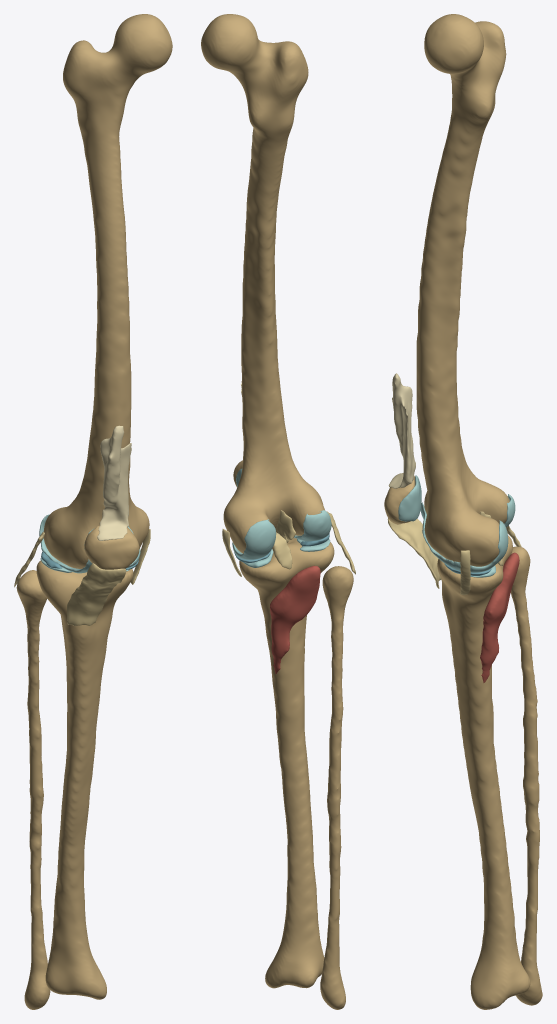
Rendered from knee.glb.
The picture shows the model from 3 angles, left to right: view 1: azimuth 30°, elevation 25°; view 2: azimuth 210°, elevation 25°; view 3: azimuth 270°, elevation 25°; orthographic projection. The views are drawn at different scales.
Visible parts, largest first — view 1: femur, tibia, fibula, quadriceps-tendon, patellar-ligament, patella, femoral-cartilage; view 2: femur, tibia, fibula, popliteus, femoral-cartilage, pcl, acl, tibial-cartilage; view 3: femur, tibia, fibula, popliteus, quadriceps-tendon, patellar-ligament, femoral-cartilage, patellar-cartilage, patella, mcl.
Boxes of the visible parts, x1,y1,x2,y2 form: femur: (43,14,172,568); tibia: (36,560,133,999); fibula: (16,570,50,1009); quadriceps-tendon: (97,425,131,540); patellar-ligament: (67,563,126,625); patella: (84,525,139,569); femoral-cartilage: (39,514,140,573); femur: (201,14,324,553); tibia: (239,538,334,988); fibula: (320,566,353,1009); popliteus: (270,565,320,673); femoral-cartilage: (232,510,331,559); pcl: (272,532,292,569); acl: (275,510,295,542); tibial-cartilage: (243,538,330,567); femur: (416,14,509,566); tibia: (437,535,530,1009); fibula: (510,546,542,1005); popliteus: (480,552,519,682); quadriceps-tendon: (388,373,415,488); patellar-ligament: (387,518,441,588); femoral-cartilage: (420,494,515,572); patellar-cartilage: (398,475,421,521); patella: (384,475,415,524); mcl: (460,550,470,594).
Bounding box in the file's own units: 1.03 × 8.12 × 1.14.
